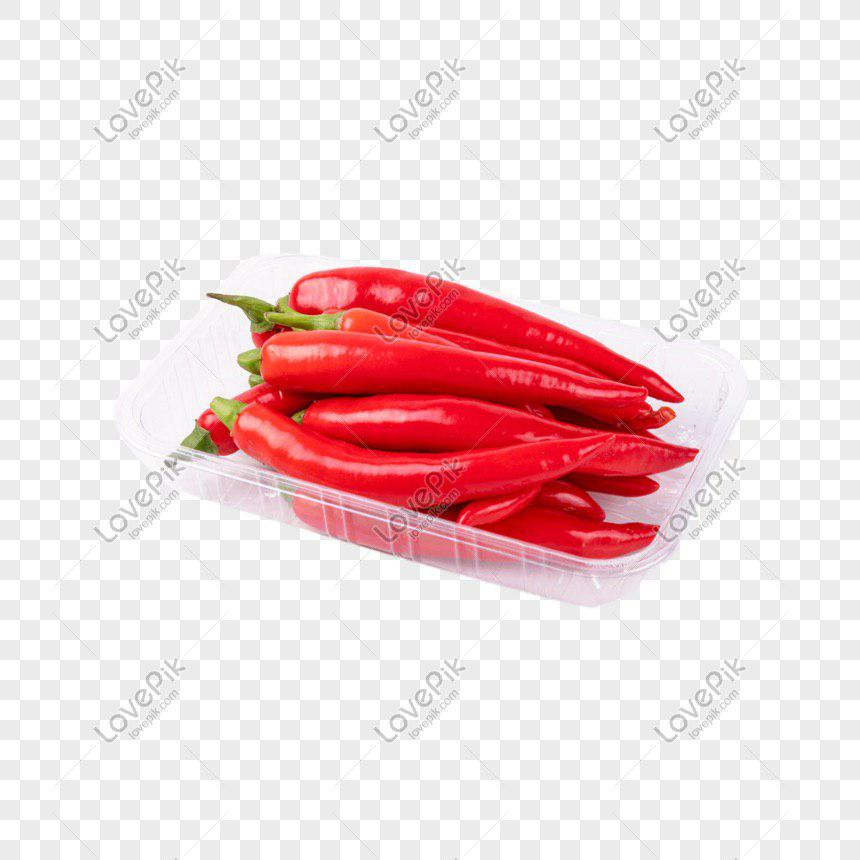lada merah: (279, 248, 673, 395), (226, 393, 622, 507), (227, 320, 668, 418)
